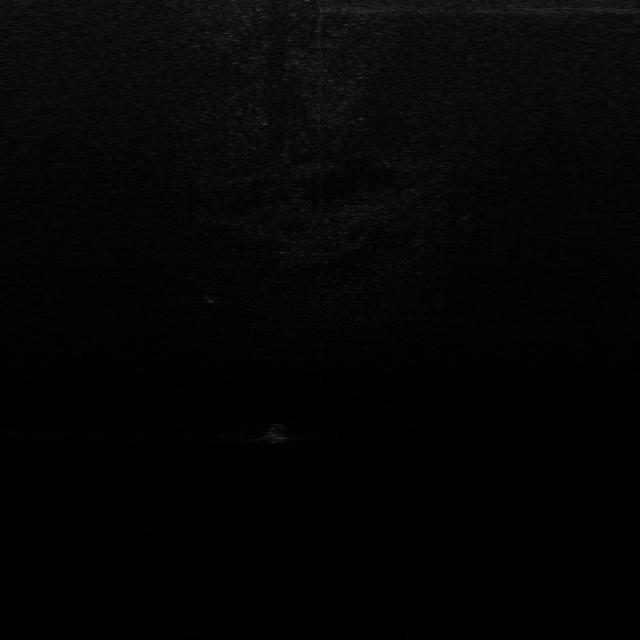ball: (260, 422, 290, 443)
circle cage: (194, 286, 222, 305)
